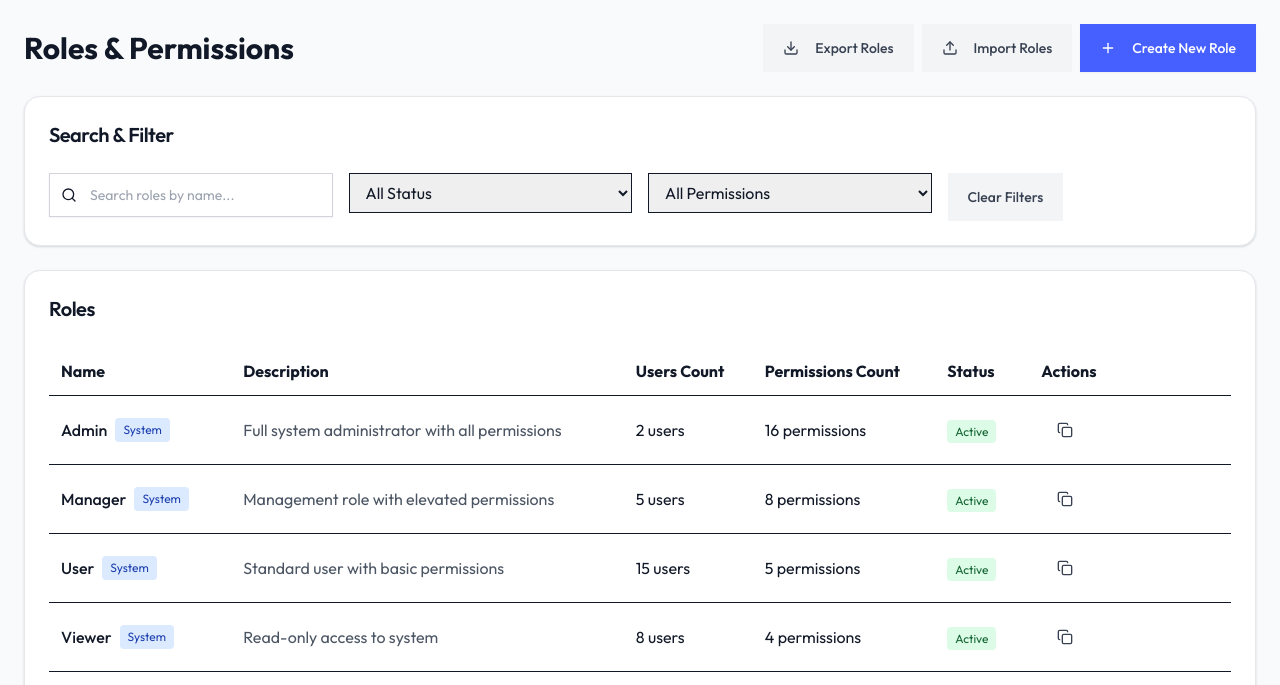
Test: RolesPermissionsPage › Create New Role › should have create role form fields
The width and height of the screenshot is (1280, 685).
Click the button with test id "create-role-button": (1168, 48) x1=1080 y1=24 x2=1256 y2=72
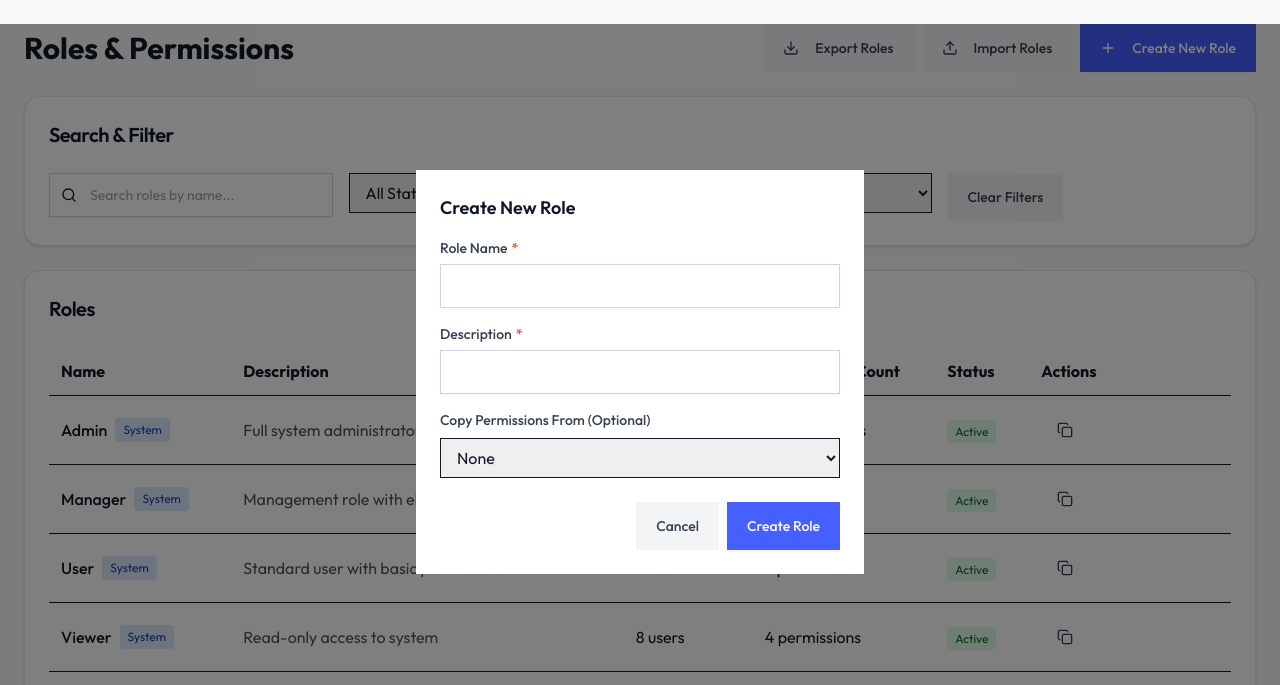
Expected: the field with test id "role-name-input" is shown, x1=440 y1=264 x2=840 y2=308
Expected: the field with test id "role-description-input" is shown, x1=440 y1=350 x2=840 y2=394
Expected: the dropdown with test id "copy-permissions-dropdown" is shown, x1=440 y1=438 x2=840 y2=478
